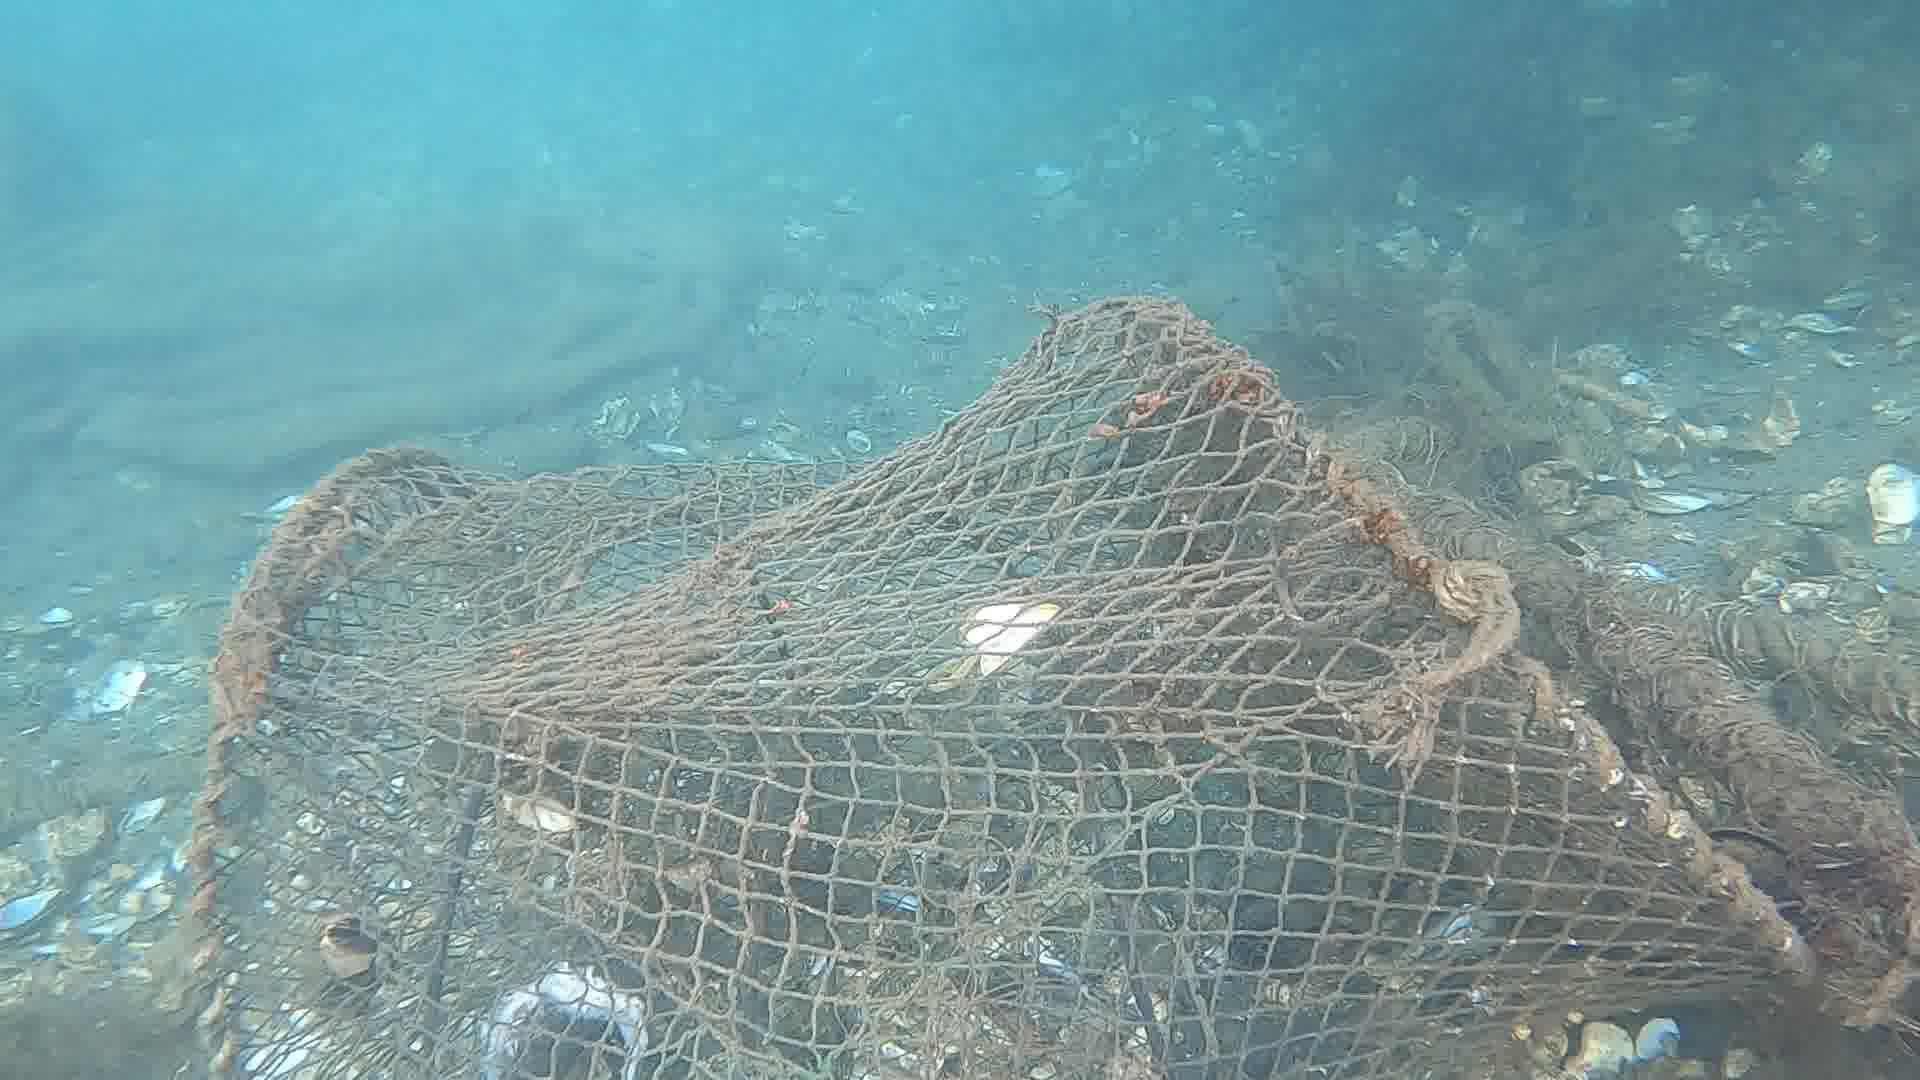bundle of ropes: (1431, 560, 1520, 684)
spring fish trap: (183, 293, 1816, 1080)
